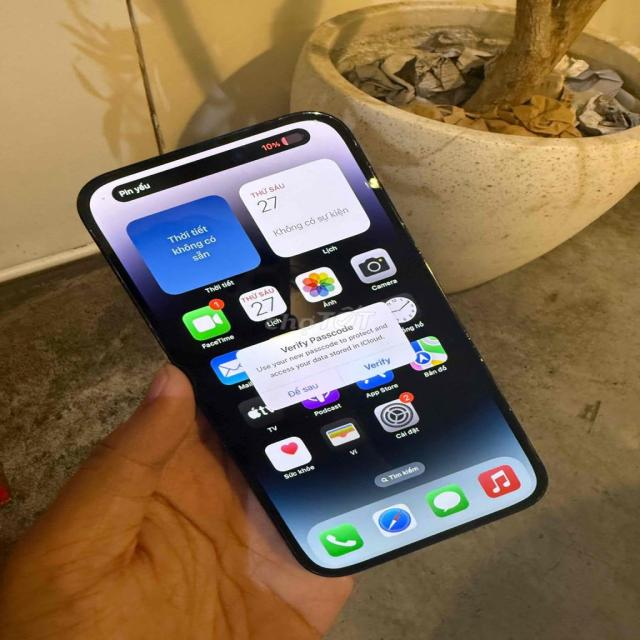gen_14: (59, 104, 550, 586)
